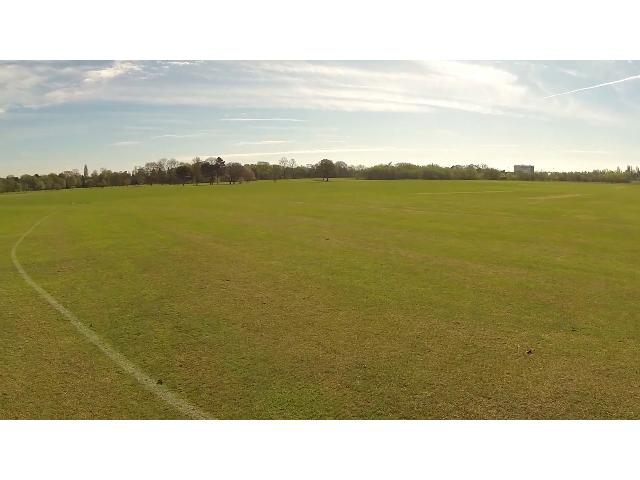Anti-Drone: (380, 160, 400, 174)
